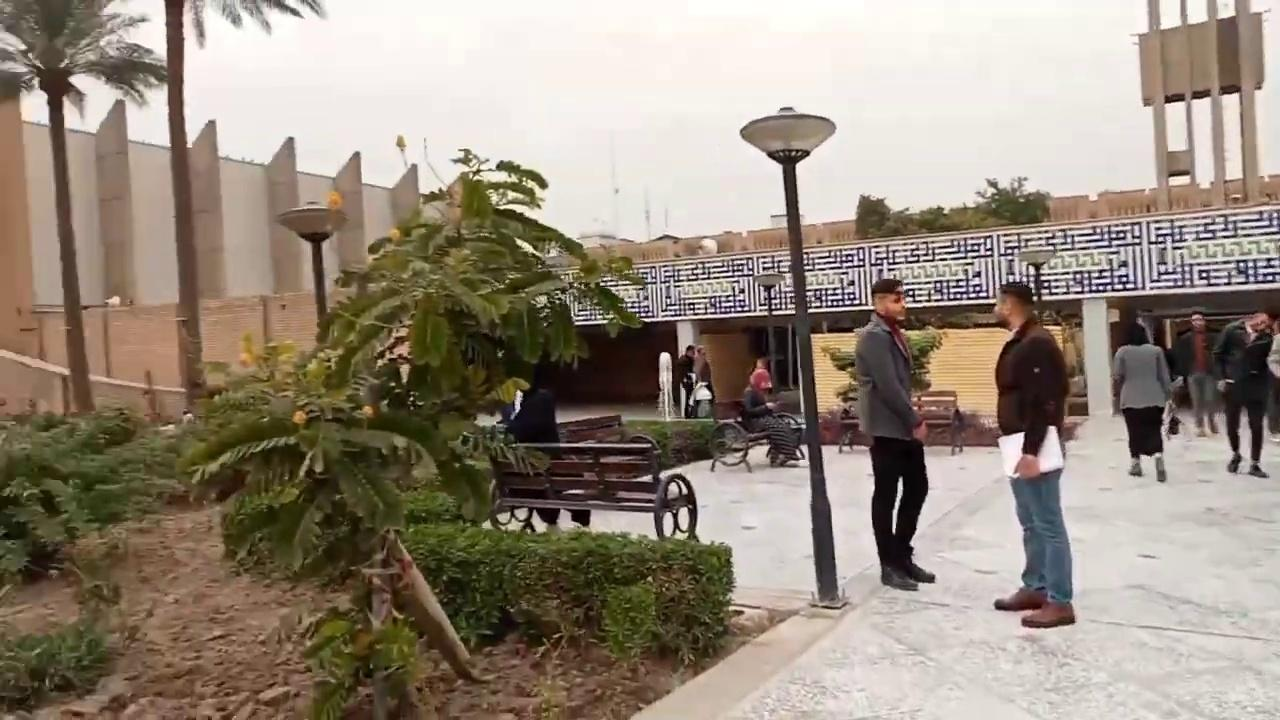fountain: (655, 350, 677, 420)
person: (992, 282, 1076, 628), (853, 277, 936, 590), (502, 361, 591, 531), (1211, 310, 1274, 478), (1110, 321, 1173, 482), (750, 356, 773, 394)
tree: (172, 144, 646, 718), (100, 0, 327, 417), (0, 0, 169, 414), (852, 174, 1052, 240), (817, 325, 942, 414), (973, 174, 1051, 226), (852, 192, 891, 239)
